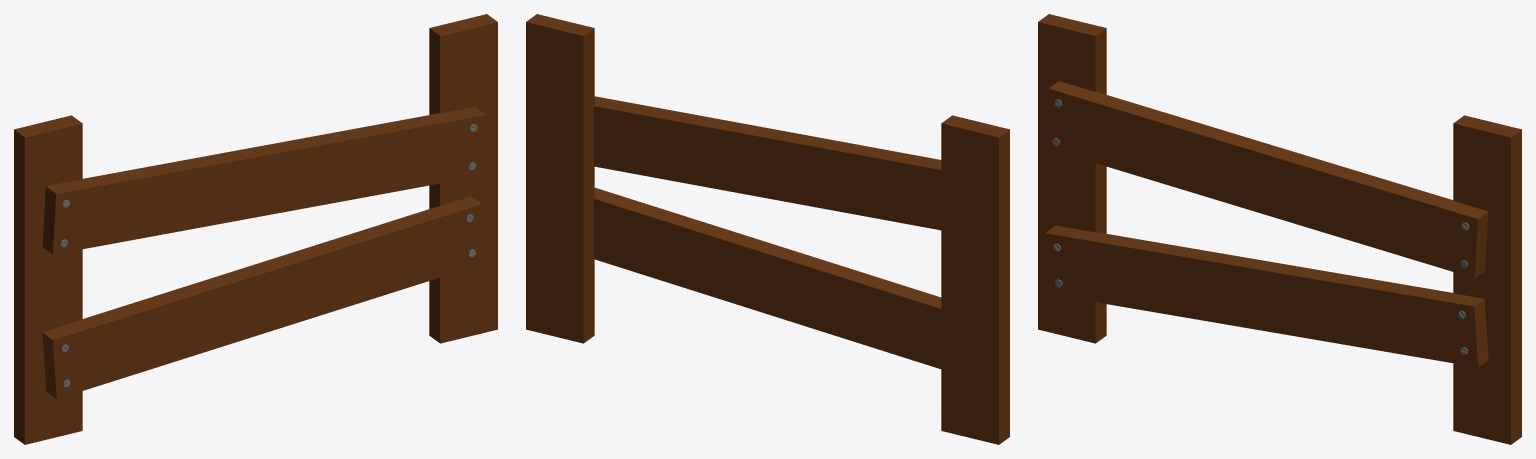
The model's file is fence3.fbx.
The picture shows the model from 3 angles, left to right: view 1: azimuth 30°, elevation 25°; view 2: azimuth 150°, elevation 25°; view 3: azimuth 330°, elevation 25°; orthographic projection.
Parts seen in each view (by area): view 1: Fence3; view 2: Fence3; view 3: Fence3.
Part boxes in pixels (x1,y1,x2,y2): Fence3: (14, 14, 497, 444); Fence3: (526, 14, 1009, 444); Fence3: (1038, 14, 1521, 444).
Size of the model in its own units: 351 by 218 by 28.06.
